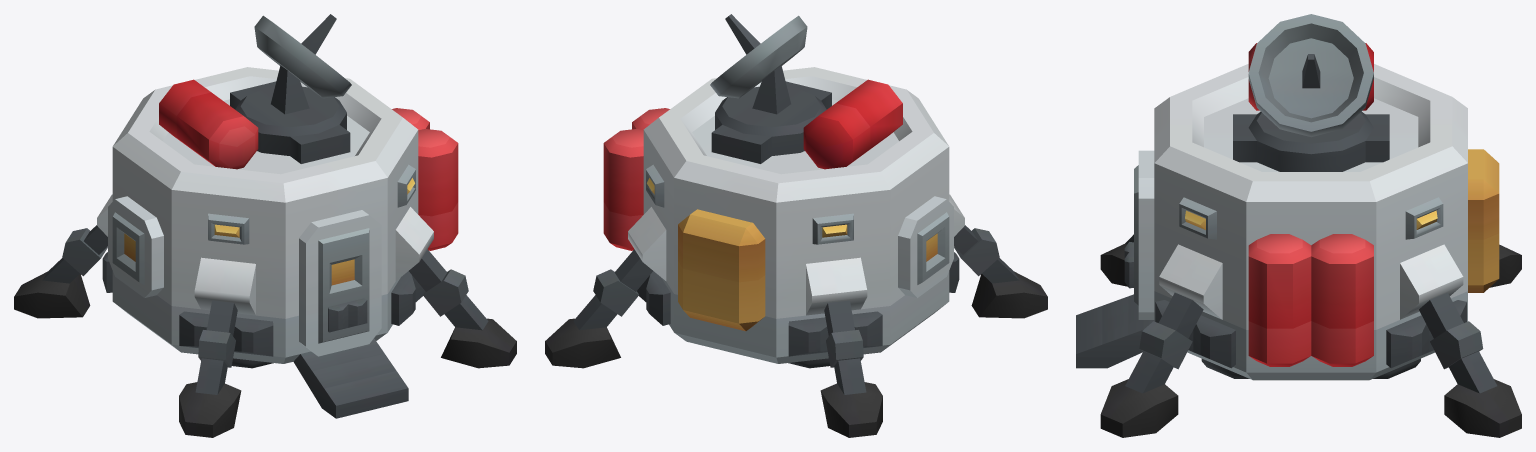
The model's file is kay-modulo-pouso.gltf.
3 views of the same model, side by side, from view 1: azimuth 30°, elevation 25°; view 2: azimuth 150°, elevation 25°; view 3: azimuth 270°, elevation 25° (orthographic). The views are drawn at different scales.
Parts seen in each view (by area): view 1: lander_A; view 2: lander_A; view 3: lander_A.
Boxes of the visible parts, left/top/right/bottom form: lander_A: left=14, top=14, right=516, bottom=437; lander_A: left=545, top=14, right=1047, bottom=437; lander_A: left=1076, top=14, right=1521, bottom=437.
Bounding box in the file's own units: 3.57 × 3.1 × 3.7.
1 material, 1 textured.
